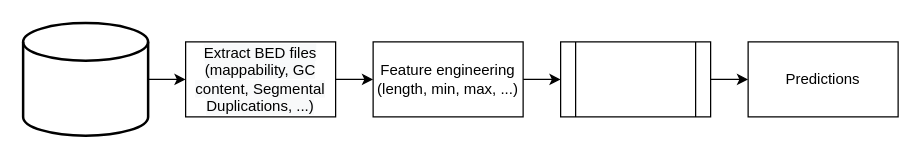
This 920x158 diagram has some shape labels left out. The shapes that lost their labels are listed below. From the top down, each one's box as (x1, y1, x2, y2) in pixels, then its label:
(21, 21, 149, 136): Reference genome (VCF & BAM)
(559, 41, 711, 117): Feed into ML-Model
